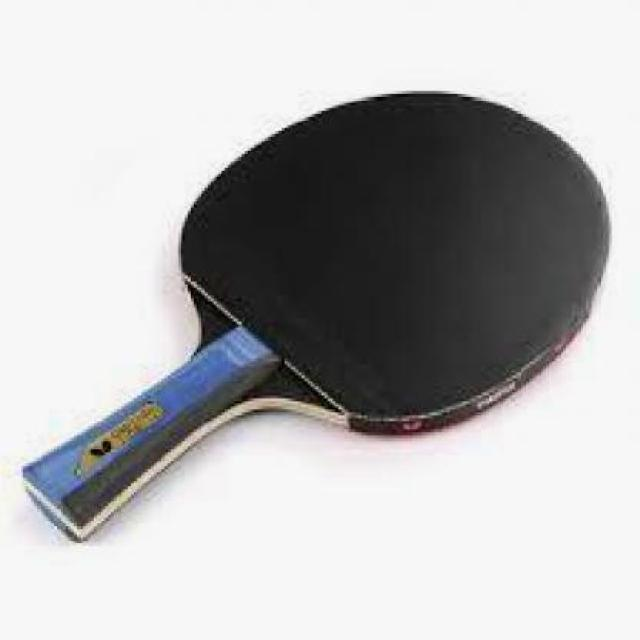table_tennis_racket: (170, 90, 616, 435)
